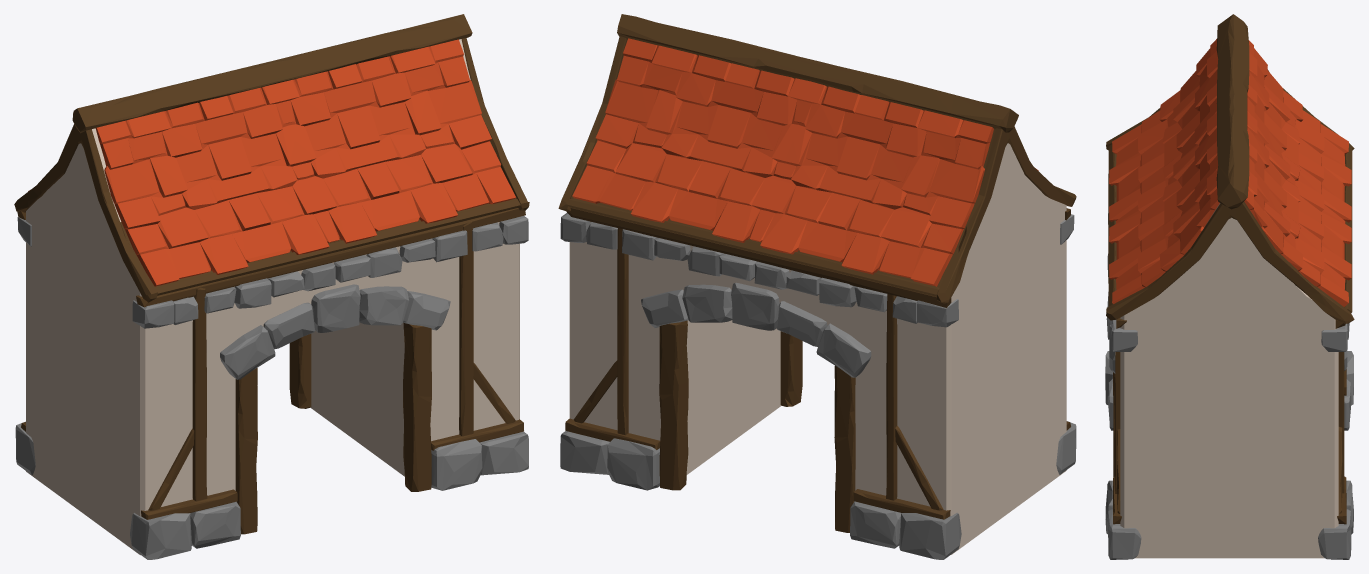
File: SM_towngate.fbx
3 renders of one model, left to right at view 1: azimuth 30°, elevation 25°; view 2: azimuth 150°, elevation 25°; view 3: azimuth 270°, elevation 25°, orthographic. The views are drawn at different scales.
Visible parts, largest first — view 1: Object2148; view 2: Object2148; view 3: Object2148.
Part boxes in pixels (x1,y1,x2,y2): Object2148: (14, 14, 529, 559); Object2148: (558, 14, 1076, 559); Object2148: (1105, 14, 1354, 559).
Bounding box in the file's own units: 415 × 418 × 252.
